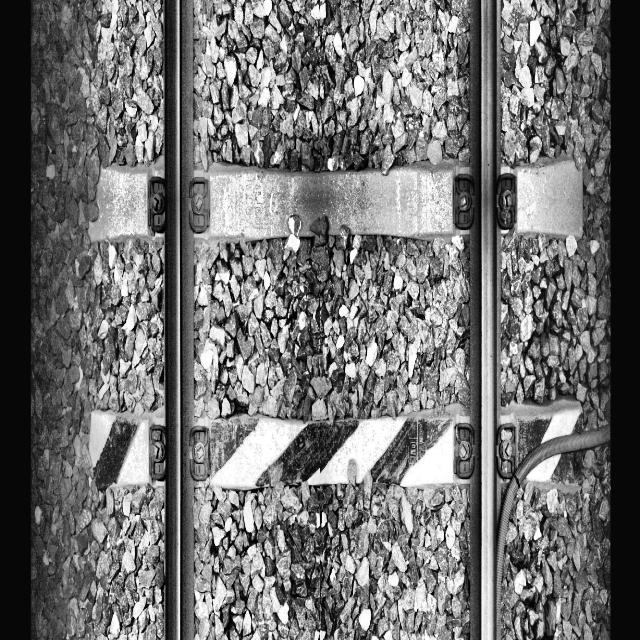Clips: (451, 169, 476, 232), (494, 419, 520, 479), (494, 166, 518, 230), (451, 418, 476, 479), (186, 175, 210, 235), (146, 422, 169, 483), (189, 421, 212, 482), (147, 173, 167, 234)
Sleepers: (88, 404, 587, 491), (83, 164, 588, 243)
